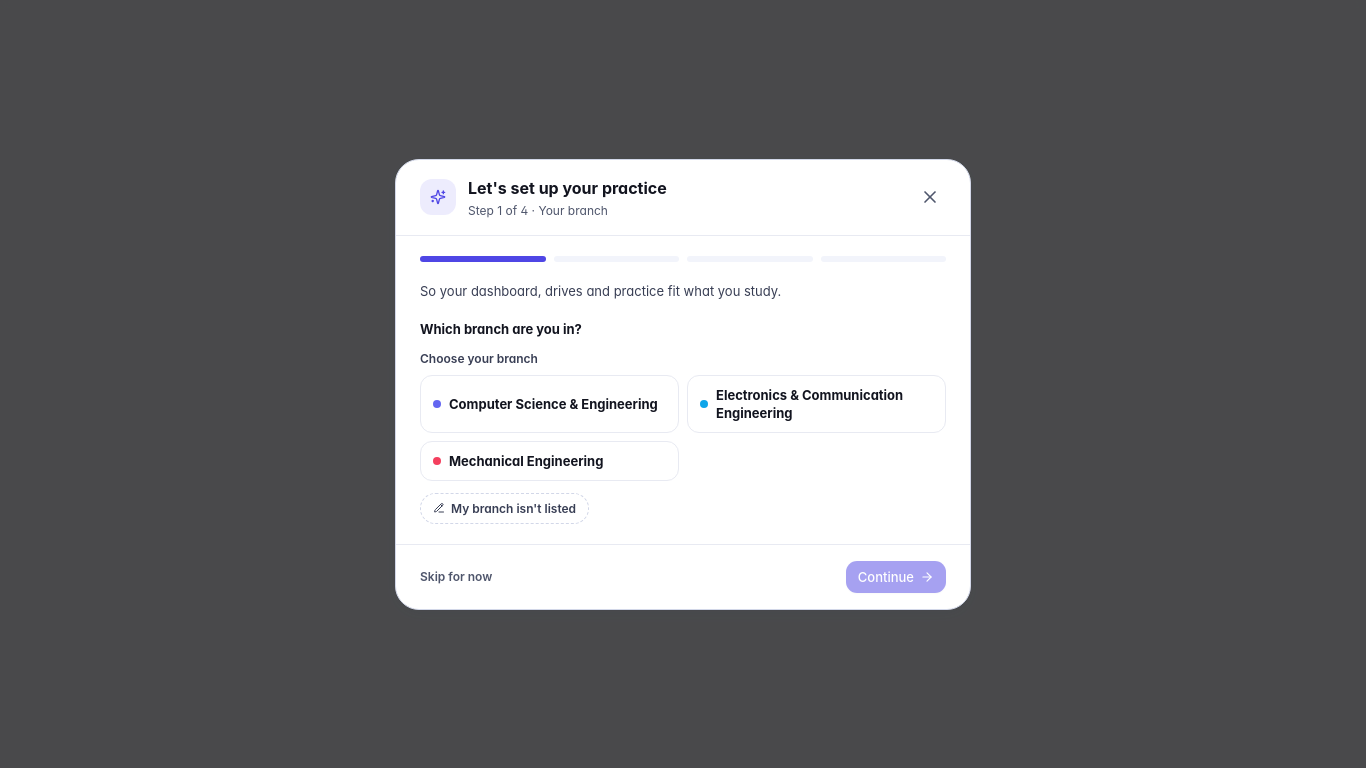
a branch that is not on the list › goes back to the list when they change their mind
Click the button "My branch isn't listed": [505, 508] box [420,492,589,524]
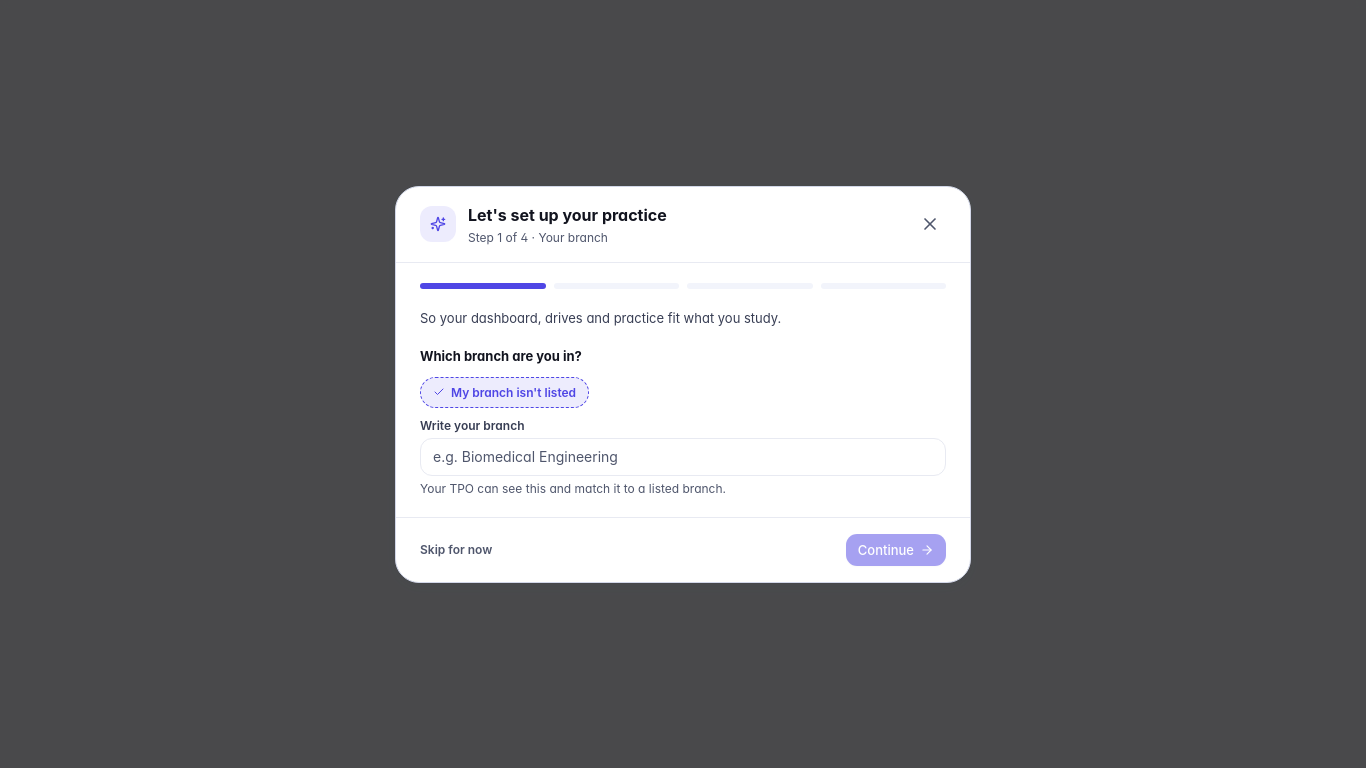
In the field with placeholder "e.g. Biomedical Engineering": [683, 456] box [420,438,946,476], type "Biomedical Engineering"
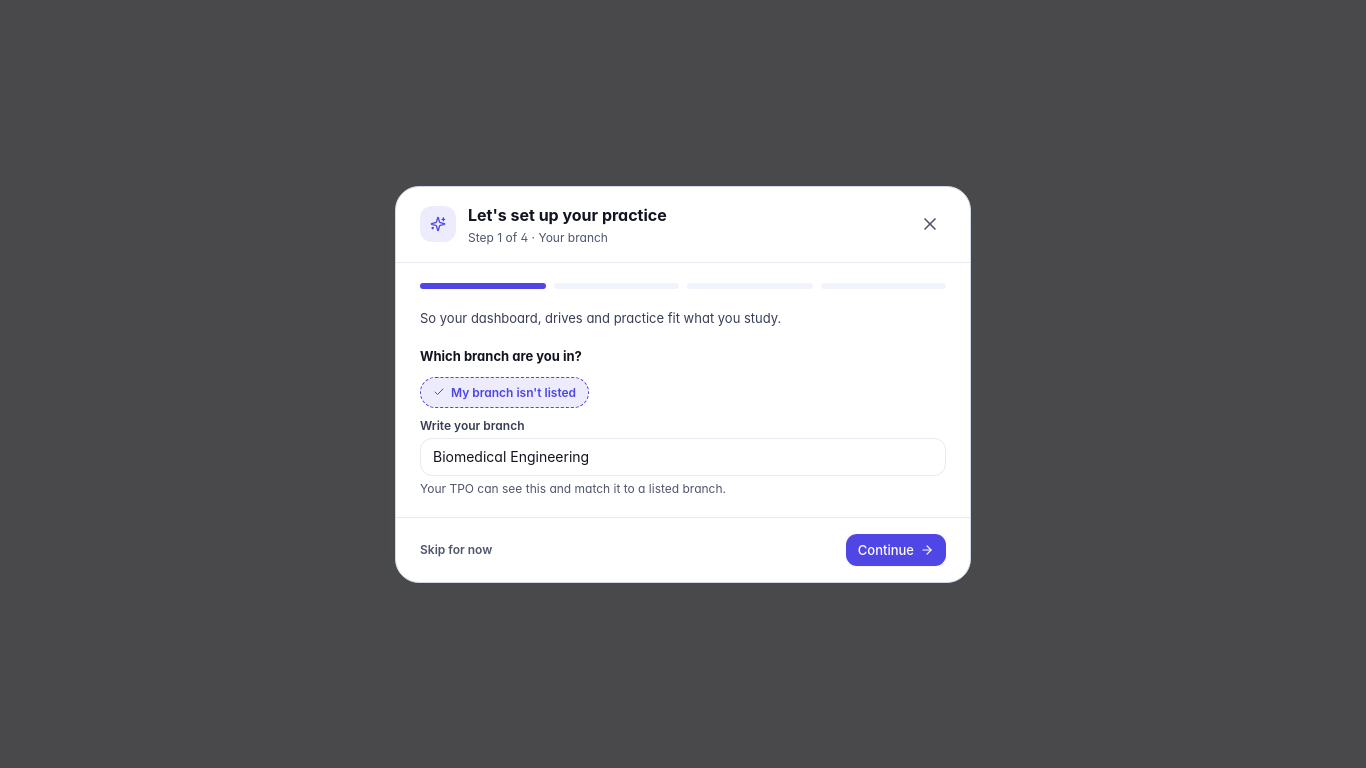
Click the button "My branch isn't listed": [505, 392] box [420,376,589,408]
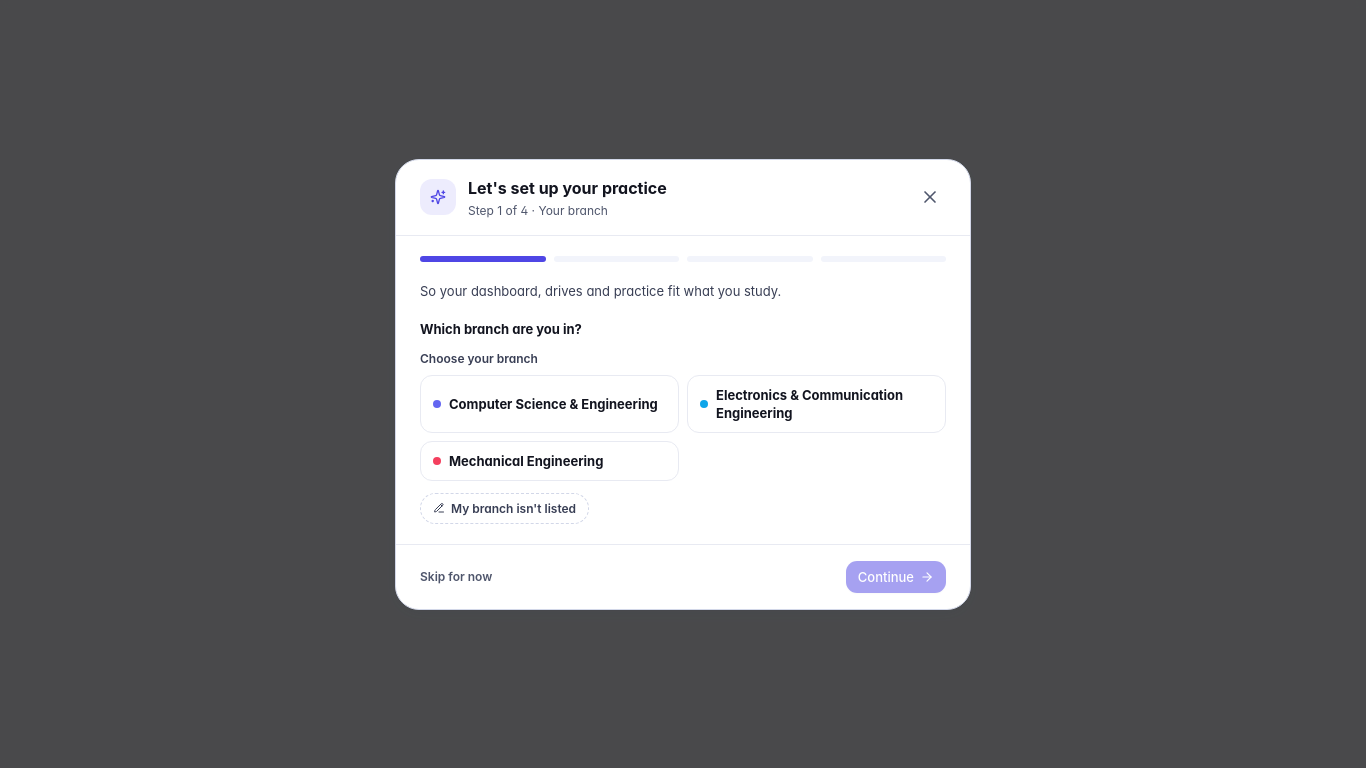
Check: the field with placeholder "Biomedical Engineering" is not shown
Check: the button "Continue" is disabled, box [846,560,946,592]
Click the radio button labelled "Electronics & Communication Engineering": [816, 404] box [687,374,946,432]
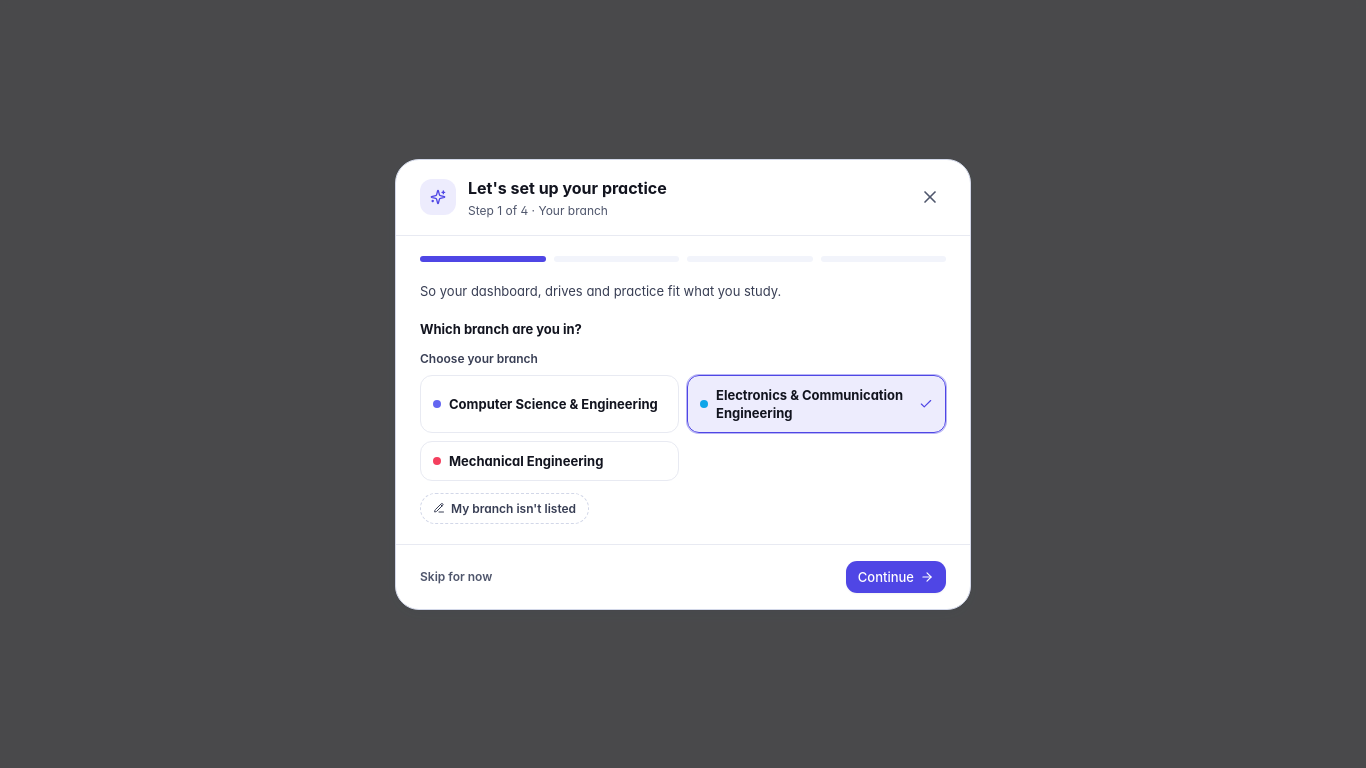
Check: the button "Continue" is enabled, box [846,560,946,592]
